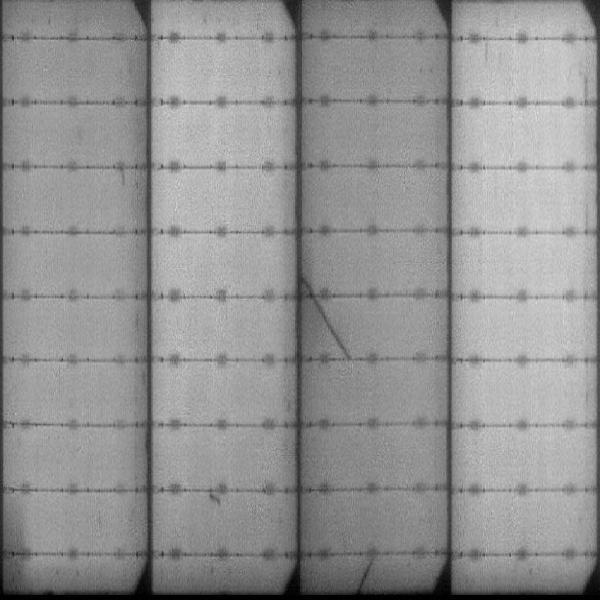scratch: (300, 275, 352, 356), (356, 555, 382, 594)
